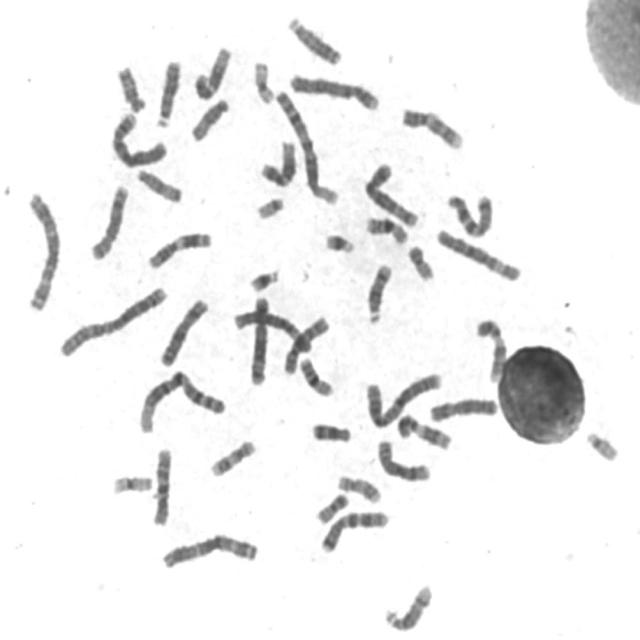A1: (272, 84, 342, 207), (134, 364, 228, 435)
A2: (55, 280, 171, 358), (362, 365, 446, 430)
A3: (22, 186, 64, 314), (158, 528, 262, 571)
B4: (285, 66, 382, 112), (107, 107, 170, 169)
B5: (360, 156, 421, 229), (246, 290, 272, 388)
C10: (280, 310, 331, 377), (148, 441, 174, 528)
C11: (143, 226, 216, 272), (392, 407, 456, 452)
C12: (190, 39, 234, 102), (257, 134, 300, 189)
C6: (433, 222, 524, 284), (230, 304, 314, 354)
C7: (317, 504, 392, 555), (442, 187, 496, 239)
C8: (86, 178, 132, 262), (374, 434, 434, 484)
C9: (397, 100, 467, 151), (472, 312, 510, 384)
D13: (284, 10, 344, 67), (152, 54, 184, 130)
D14: (381, 578, 436, 634), (363, 257, 395, 326)
D15: (132, 162, 186, 205), (187, 92, 232, 143)
E16: (296, 351, 336, 399), (362, 211, 411, 246)
E17: (206, 434, 259, 479), (334, 469, 384, 505)
E18: (109, 64, 149, 118), (308, 417, 354, 445)
F19: (249, 54, 278, 106), (108, 469, 155, 496)
F20: (312, 487, 352, 525), (404, 239, 438, 283)
G21: (245, 262, 282, 294), (320, 227, 358, 256)
G22: (582, 424, 623, 462), (252, 191, 286, 220)
X: (156, 292, 212, 368), (426, 391, 501, 424)
